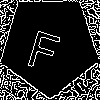F: (24, 20, 66, 73)
